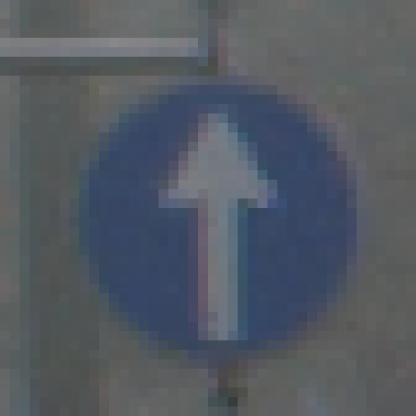AheadOnly: (51, 58, 368, 370)
